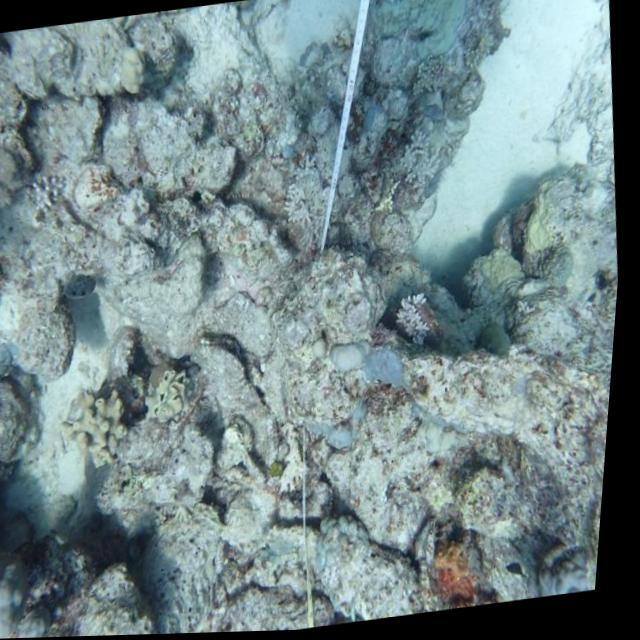Bleached Coral: (368, 117, 451, 231), (269, 122, 342, 251), (377, 290, 456, 362), (389, 37, 477, 99), (20, 167, 66, 231)
